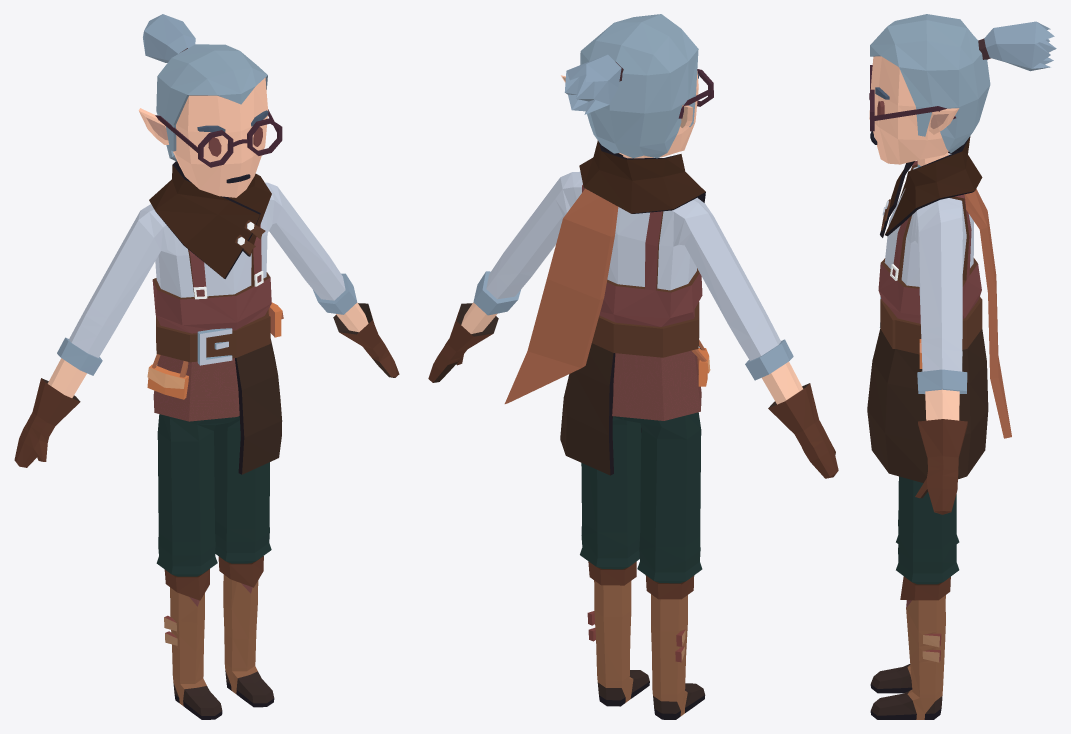
Rendered from hero_mage_glasses.glb.
3 views of the same model, side by side, from view 1: azimuth 30°, elevation 25°; view 2: azimuth 150°, elevation 25°; view 3: azimuth 270°, elevation 25° (orthographic). The views are drawn at different scales.
Parts seen in each view (by area): view 1: Object_4; view 2: Object_4; view 3: Object_4.
Part boxes in pixels (<box>): Object_4: <box>14,14,399,719</box>; Object_4: <box>428,14,838,719</box>; Object_4: <box>867,14,1056,719</box>.
Bounding box in the file's own units: 2.77 × 4.47 × 1.13.
1 material, 1 textured.
